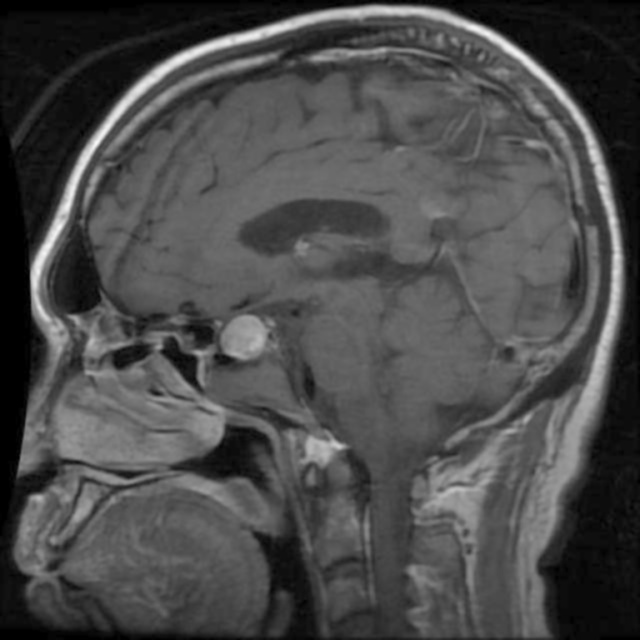no tumor: (205, 303, 273, 372)
